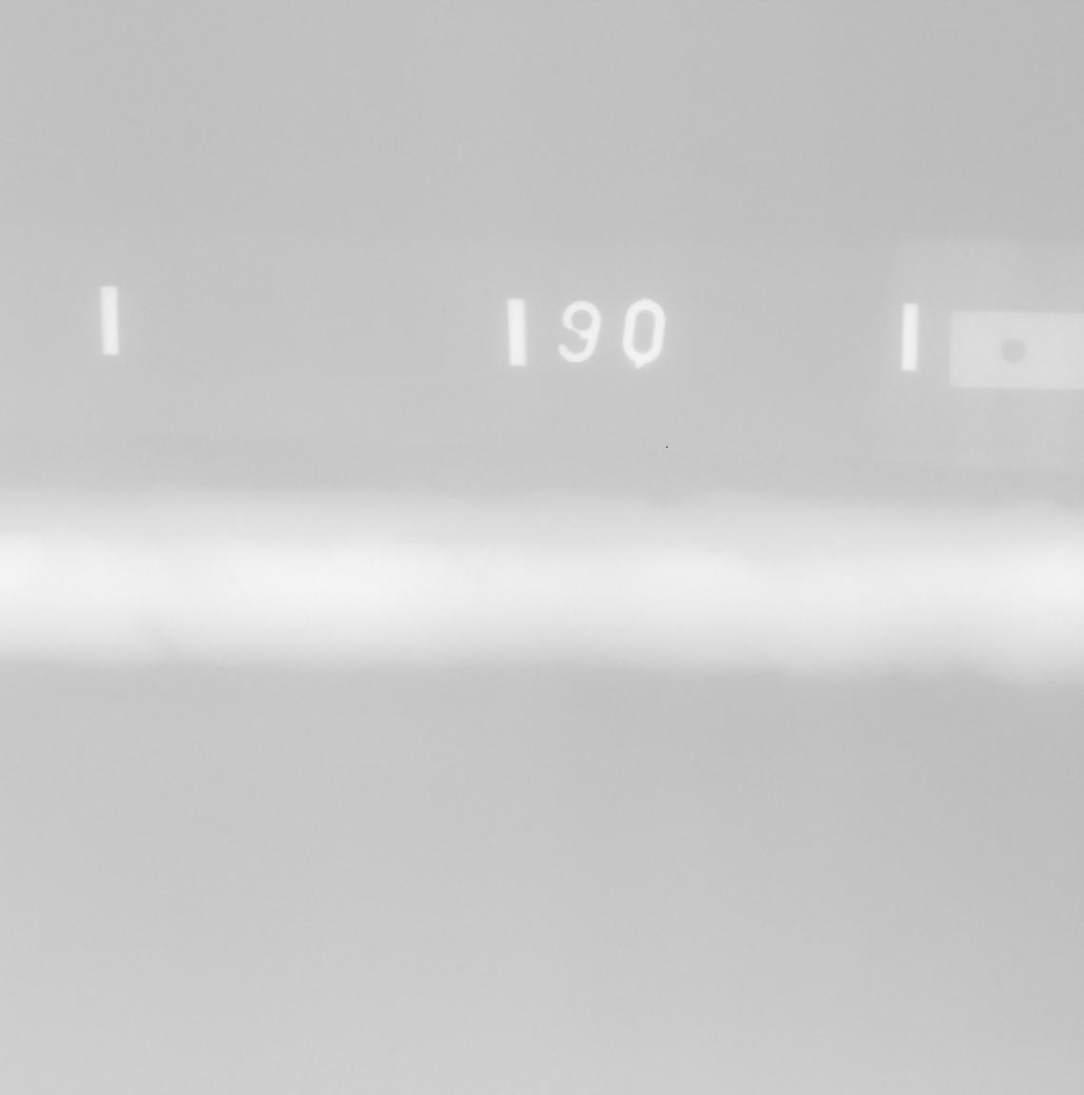Inclusion: (707, 548, 719, 553), (1048, 610, 1062, 614), (1048, 597, 1056, 601), (958, 627, 963, 632)
Pore/Porosity: (226, 576, 237, 583)
